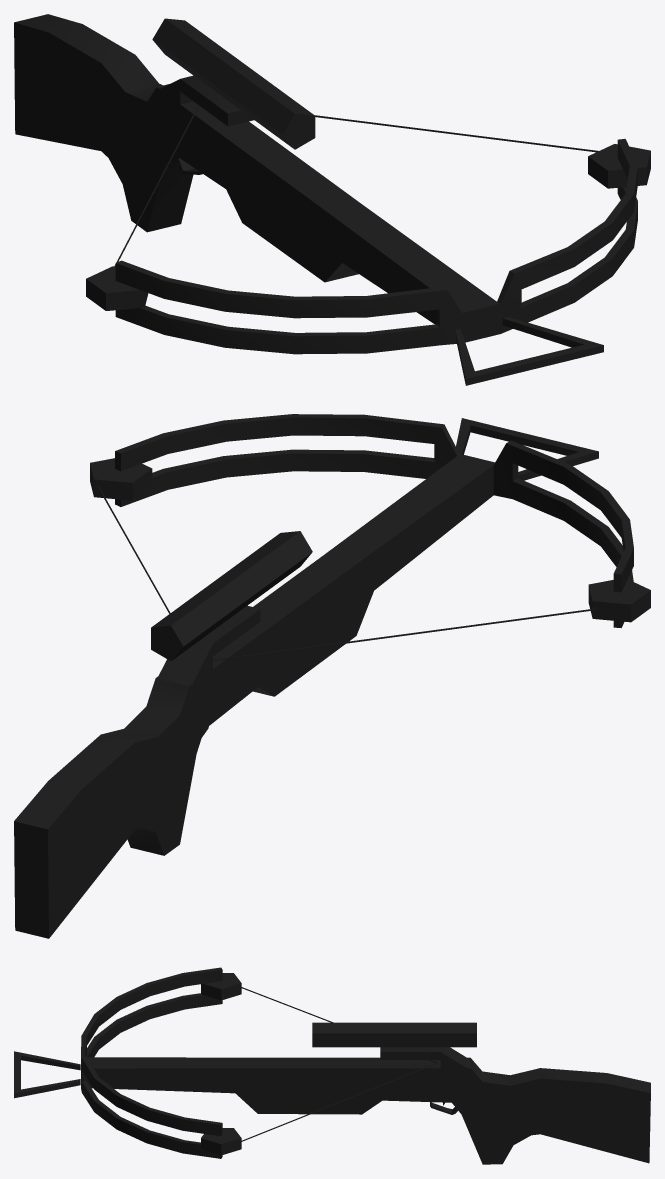
Rendered from crossbowthree.dae.
3 renders of one model, top to bottom at view 1: azimuth 30°, elevation 25°; view 2: azimuth 150°, elevation 25°; view 3: azimuth 270°, elevation 25°, orthographic. The views are drawn at different scales.
Visible parts, largest first — view 1: vsn_mesh_0_crossbowthree; view 2: vsn_mesh_0_crossbowthree; view 3: vsn_mesh_0_crossbowthree.
Boxes of the visible parts, <box> form: vsn_mesh_0_crossbowthree: <box>14,14,650,385</box>; vsn_mesh_0_crossbowthree: <box>14,414,650,938</box>; vsn_mesh_0_crossbowthree: <box>14,967,650,1164</box>.
Bounding box in the file's own units: 0.5686 × 0.2094 × 0.8934.
1 material, 1 textured.
